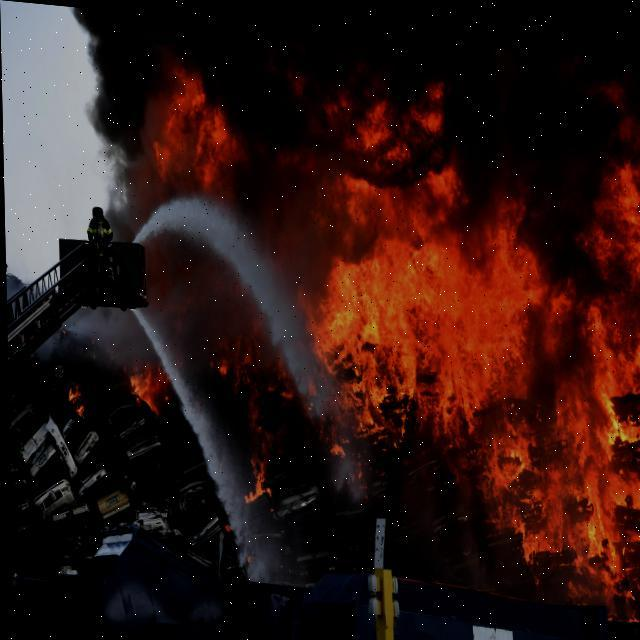Fire: (308, 192, 639, 607), (195, 313, 306, 515), (114, 353, 190, 446), (60, 366, 86, 424)
